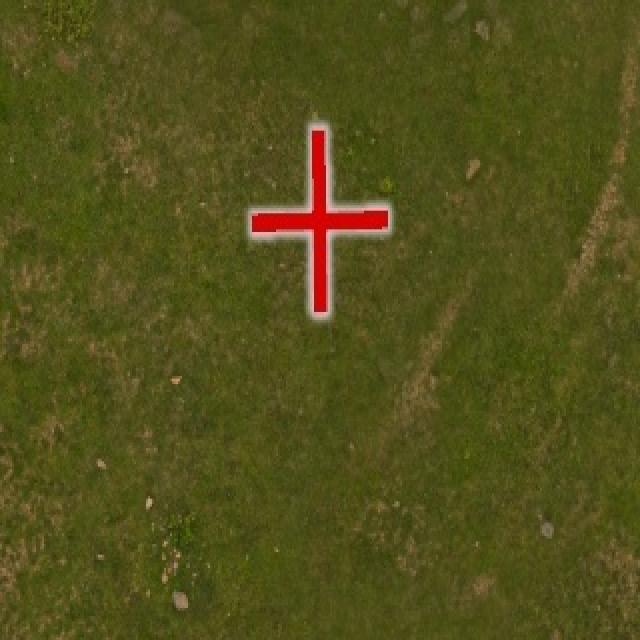x_marker: (251, 127, 387, 313)
